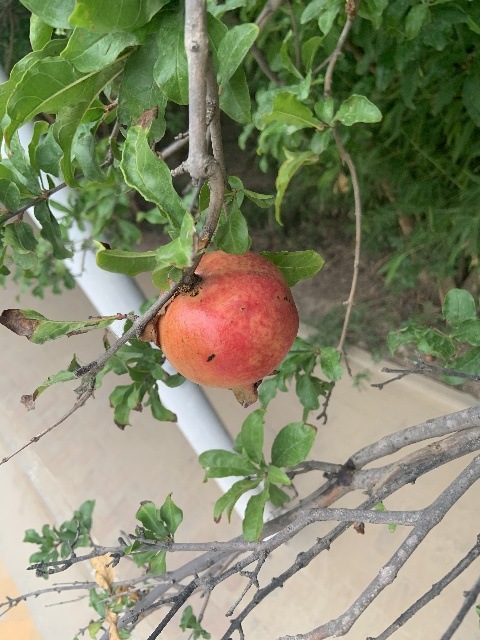ripe: (158, 249, 299, 408)
